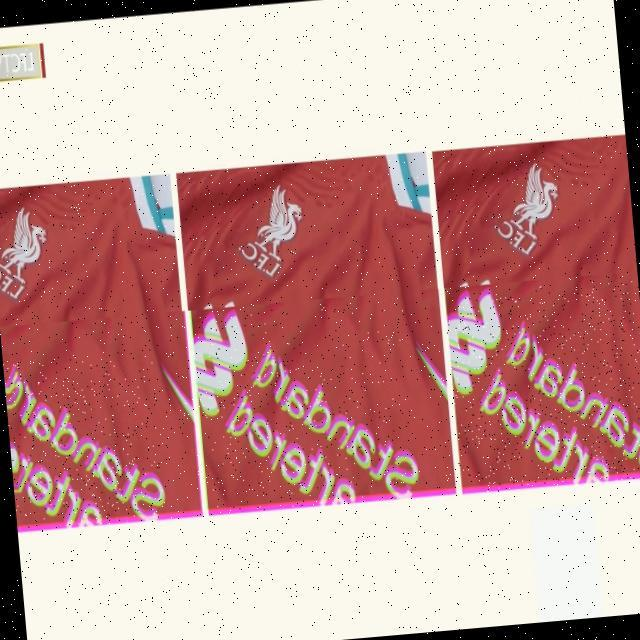Standard Chartered: (193, 298, 419, 515), (441, 277, 640, 494), (3, 350, 167, 530)
